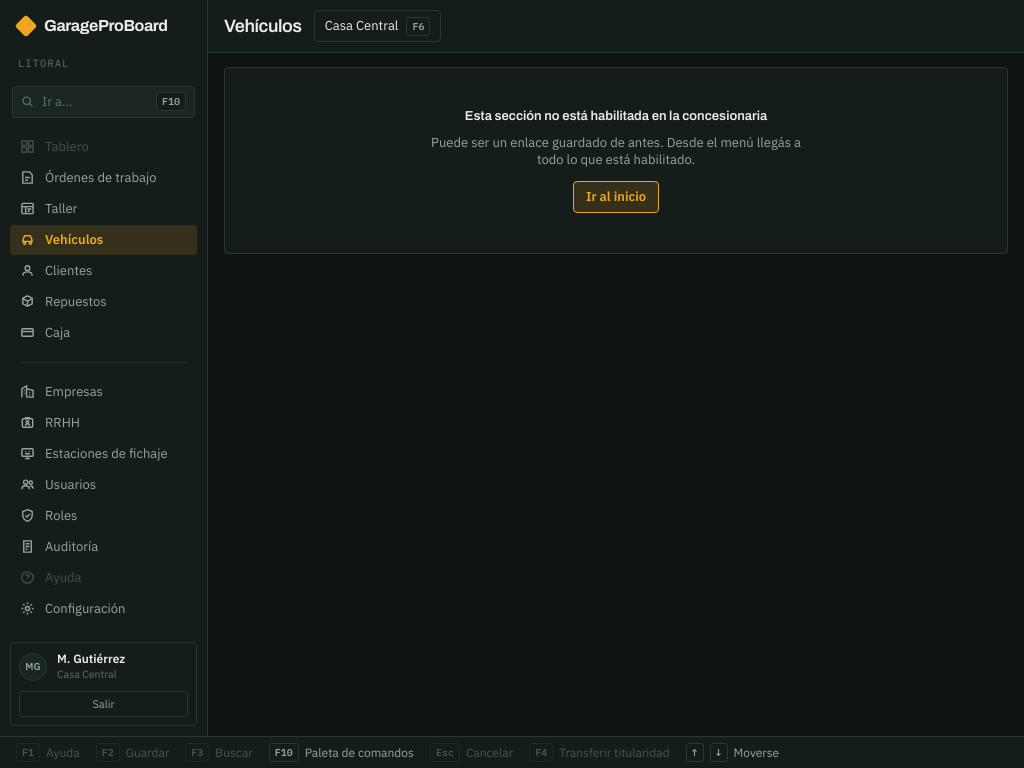
Test case: la navegación › el menú cambia la dirección, marca la sección y cambia el F4 de la pantalla
Expected: the heading "Vehículos" is shown, [224,12,302,40]
Expected: the text "Cerrar la orden" is not shown
Click the link "Órdenes de trabajo". click: (88, 178)
box: [20,169,156,186]
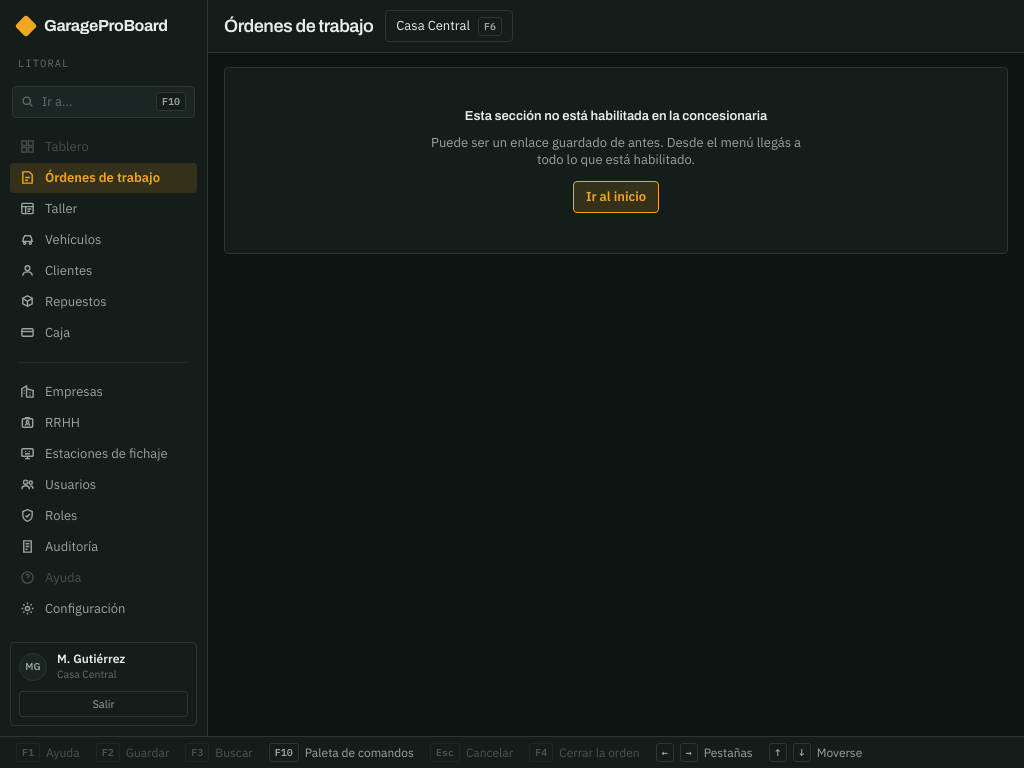
Expected: the heading "Órdenes de trabajo" is shown, [224,12,373,40]
Expected: the text "Cerrar la orden" is shown, [559,745,640,760]
